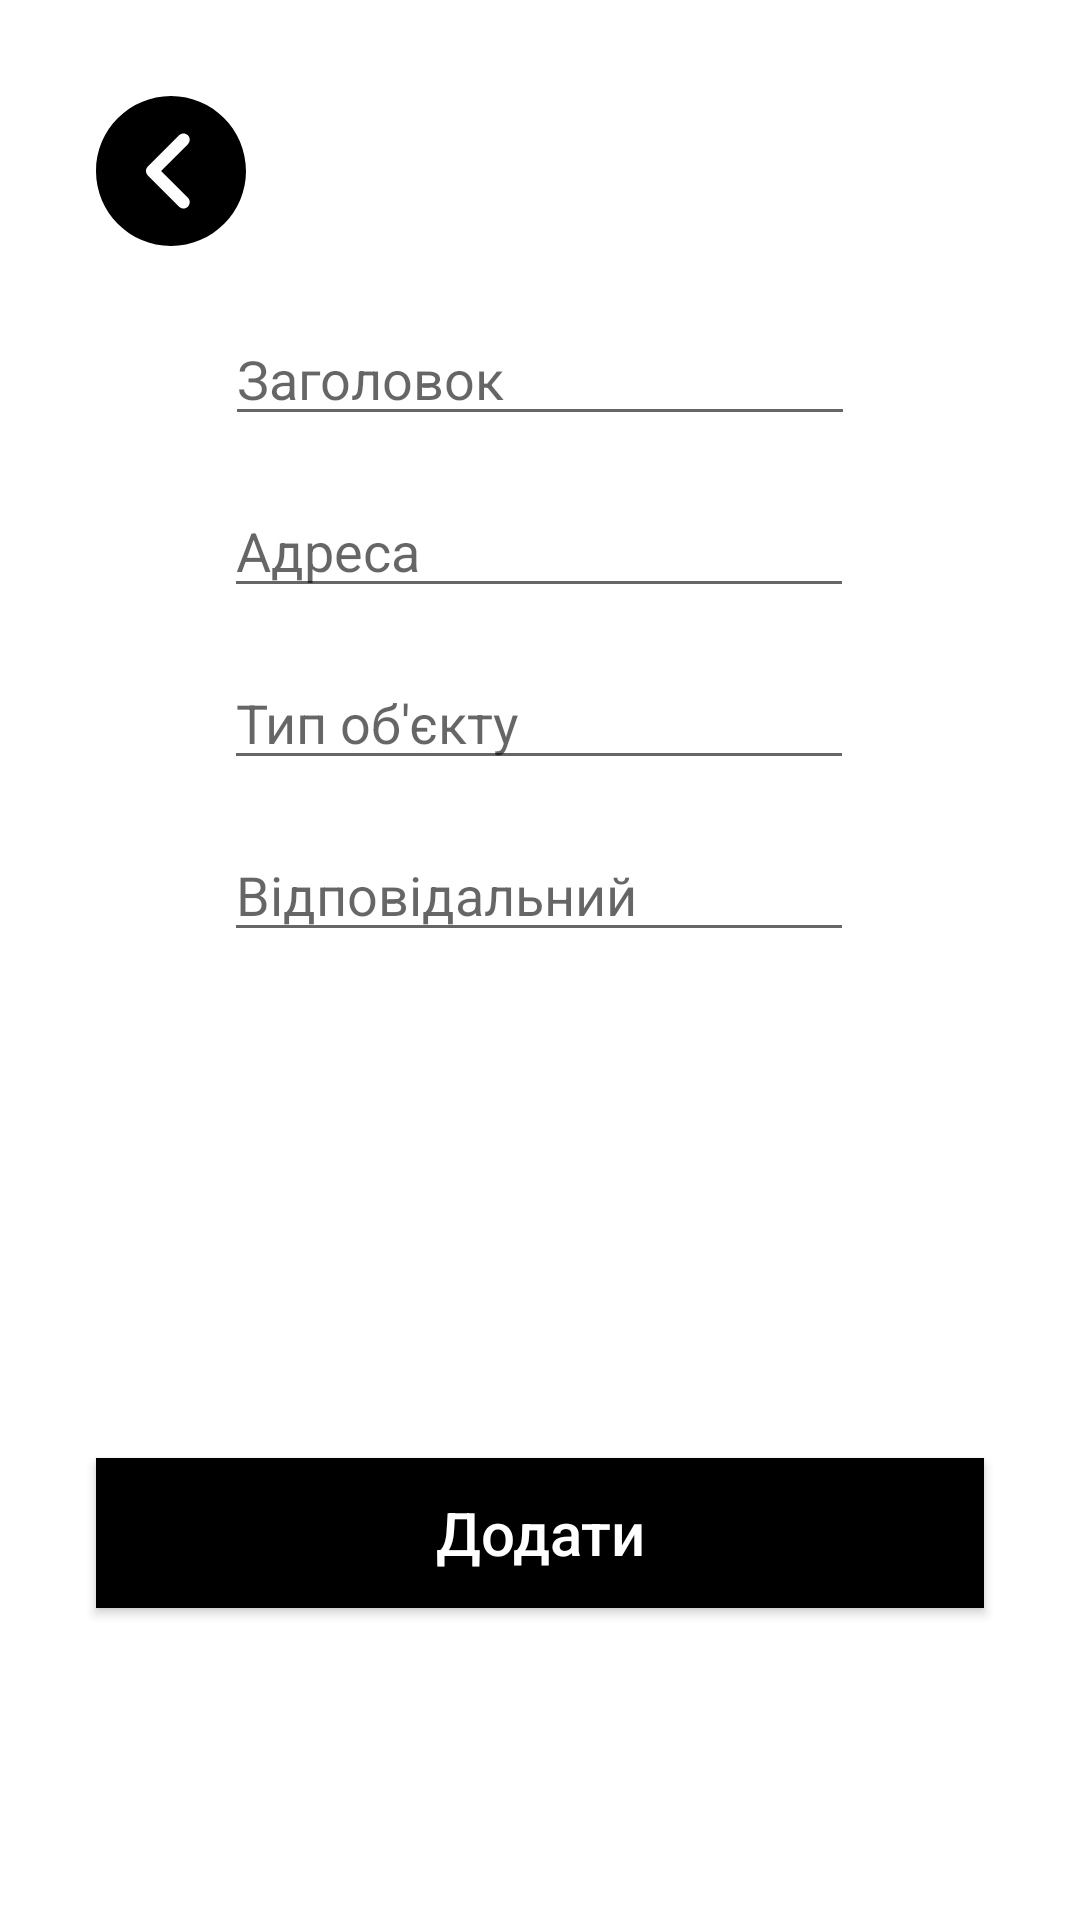

Where icons sit on this 1080 × 1920 app screen, as (x1, y1, x2, y2):
left arrow: (96, 96, 246, 246)
